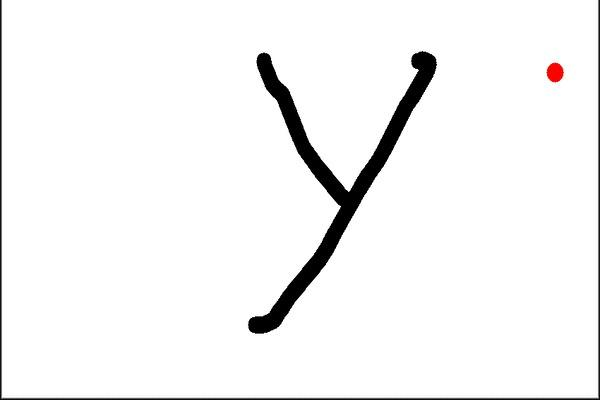Y: (231, 33, 449, 349)
